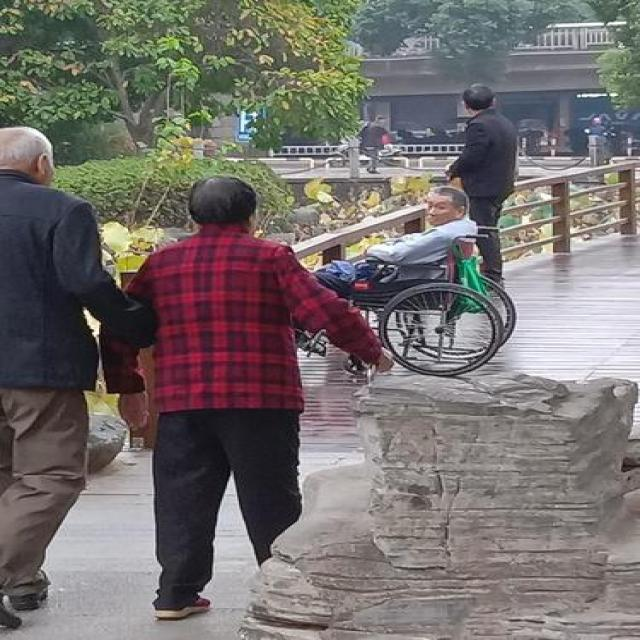wheelchairs: (312, 224, 532, 379)
